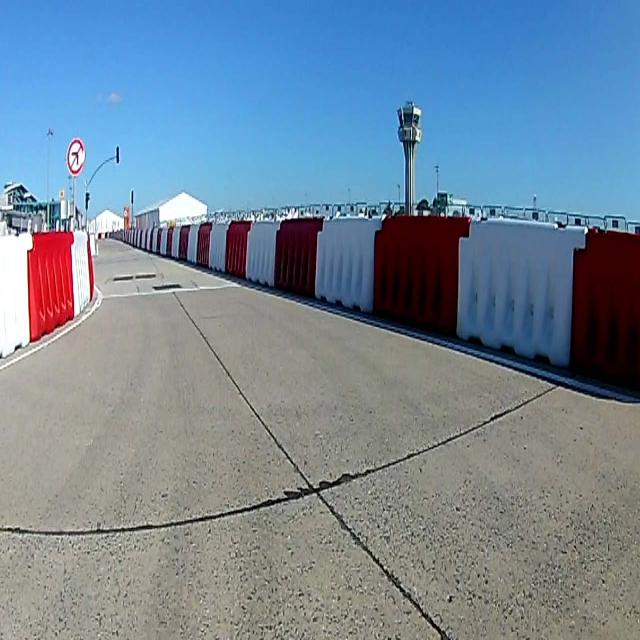soladonulmez: (67, 138, 87, 174)
